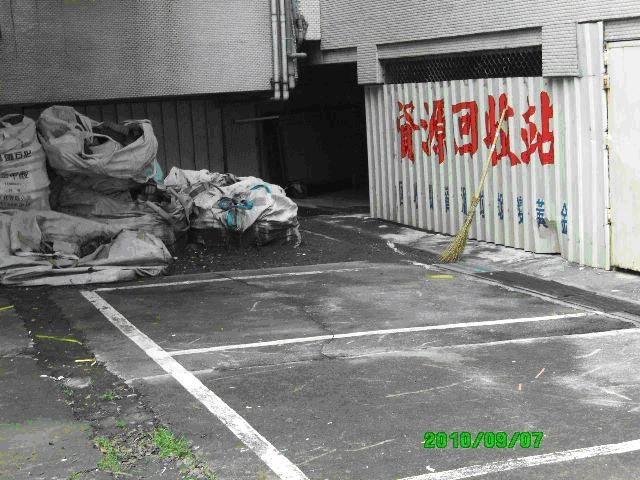plastic_bag: (38, 104, 165, 215), (1, 210, 171, 285), (165, 166, 297, 229), (1, 113, 50, 212)
